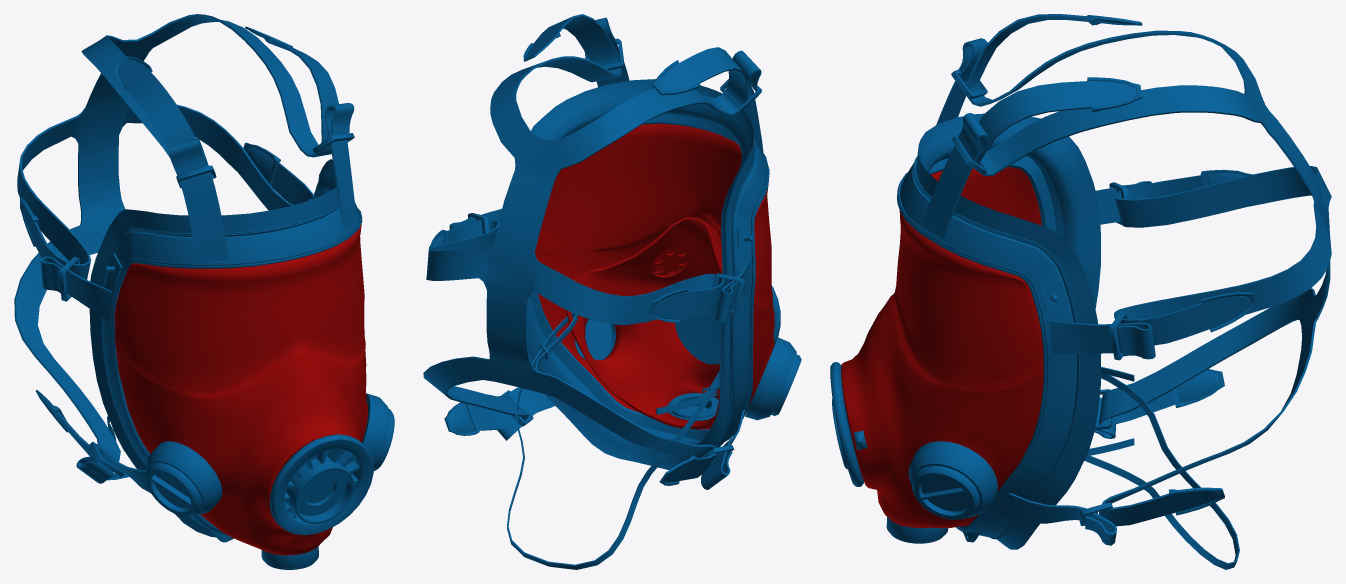
The picture shows the model from 3 angles, left to right: view 1: azimuth 30°, elevation 25°; view 2: azimuth 150°, elevation 25°; view 3: azimuth 270°, elevation 25°; orthographic projection. The views are drawn at different scales.
Visible parts, largest first — view 1: strapsAndLining, clearFaceMask; view 2: strapsAndLining, clearFaceMask, muzzle; view 3: strapsAndLining, clearFaceMask.
Boxes of the visible parts, x1,y1,x2,y2 form: strapsAndLining: [14, 14, 394, 569]; clearFaceMask: [114, 224, 367, 555]; strapsAndLining: [423, 14, 801, 569]; clearFaceMask: [534, 123, 774, 412]; muzzle: [565, 217, 722, 429]; strapsAndLining: [830, 14, 1331, 569]; clearFaceMask: [841, 167, 1043, 528].
Bounding box in the file's own units: 1.25 × 2 × 1.78.
